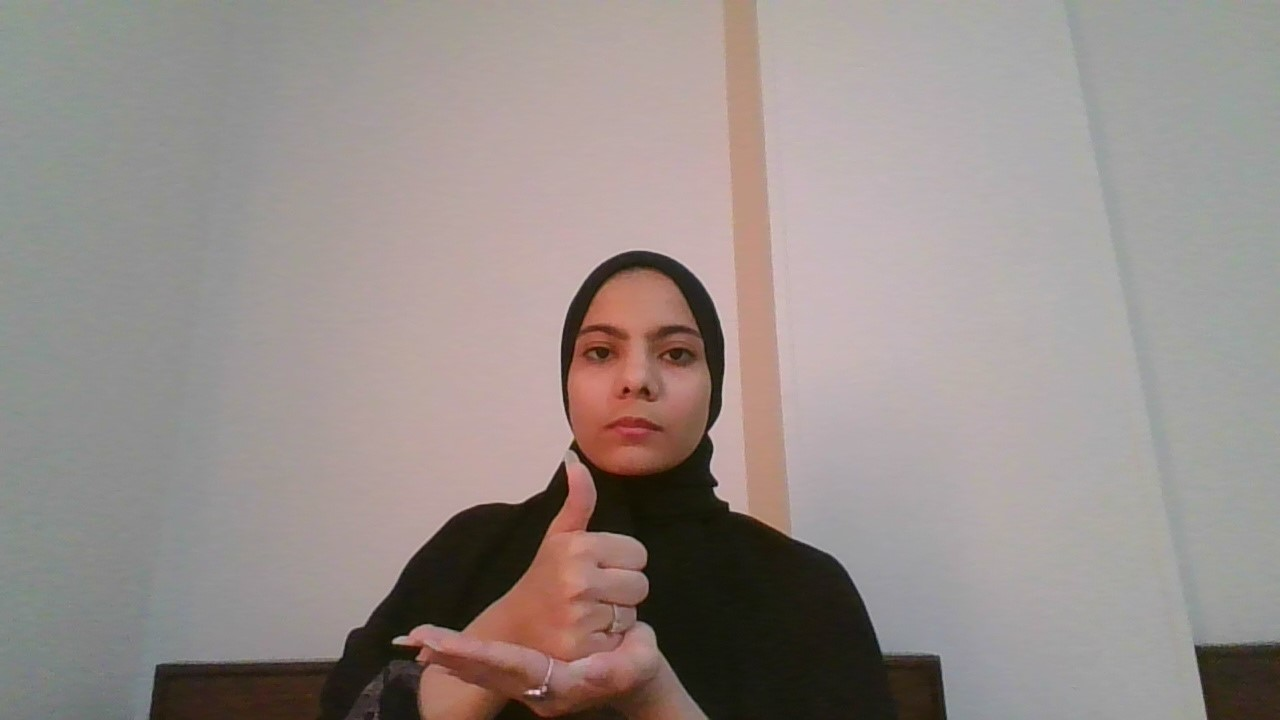help: (509, 442, 653, 664)
